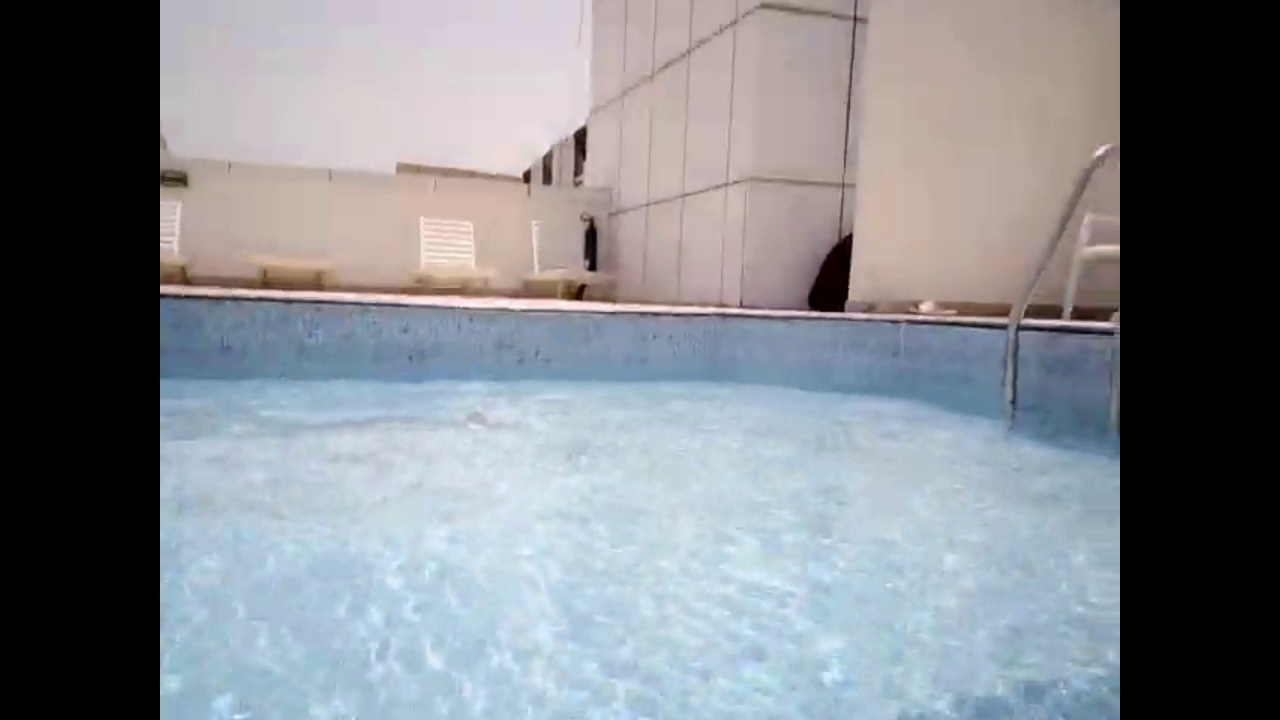debris: (462, 405, 489, 432)
